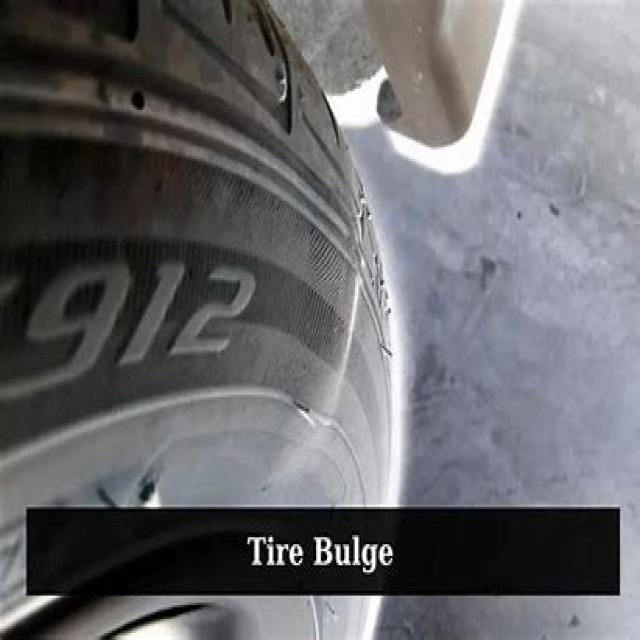Bulge: (250, 219, 372, 491)
